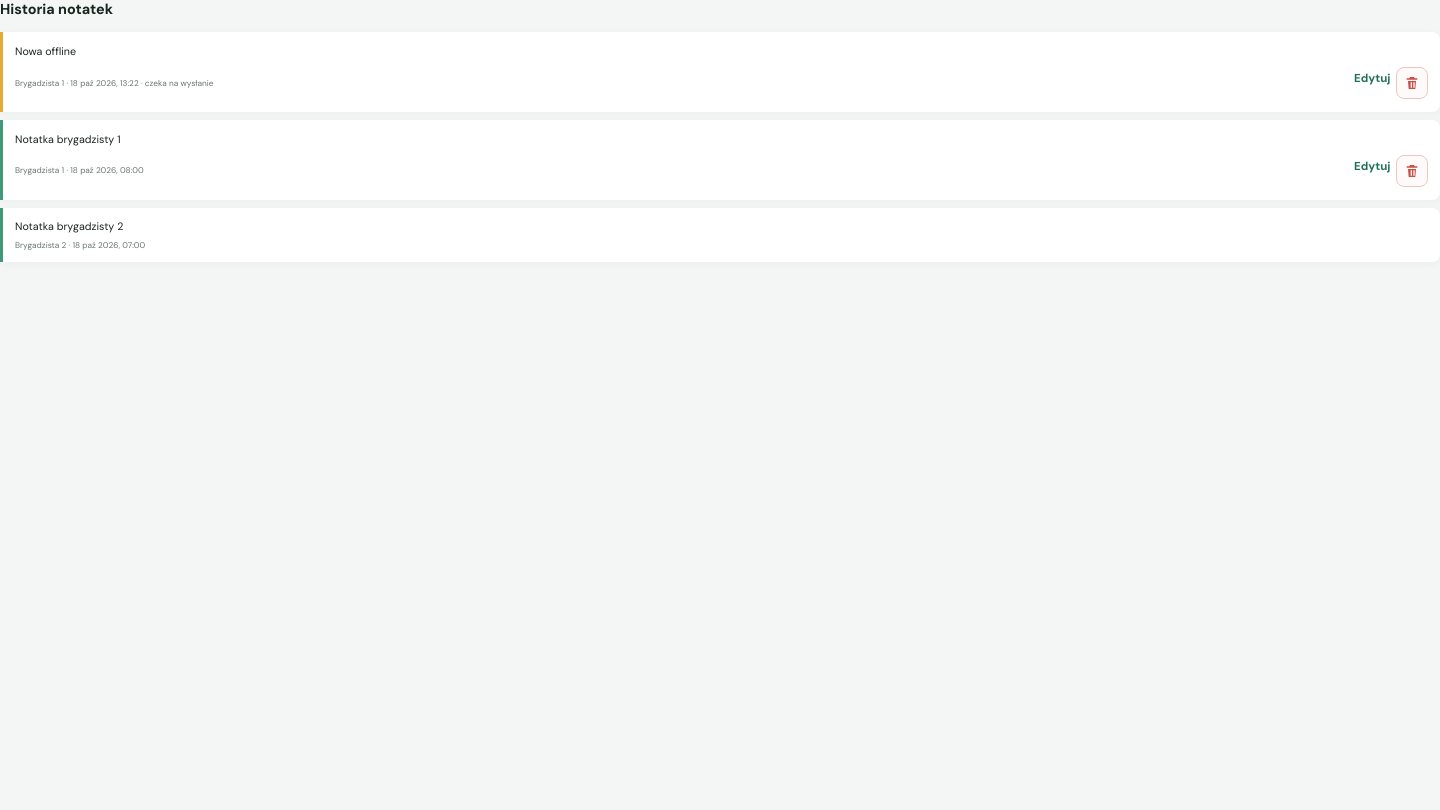
Scenario: bez zasięgu i synchronizacja › notatka dodana offline i niewysłana: edycja zmienia kolejkę, usunięcie usuwa ją z kolejki — bez żądań do serwera
The width and height of the screenshot is (1440, 810).
Expected: the text "Nowa offline" is shown, [15, 44, 76, 58]
Click the button "Edytuj" in the row of "· czeka na wysłanie".
click(1372, 83)  # box [1354, 64, 1390, 102]
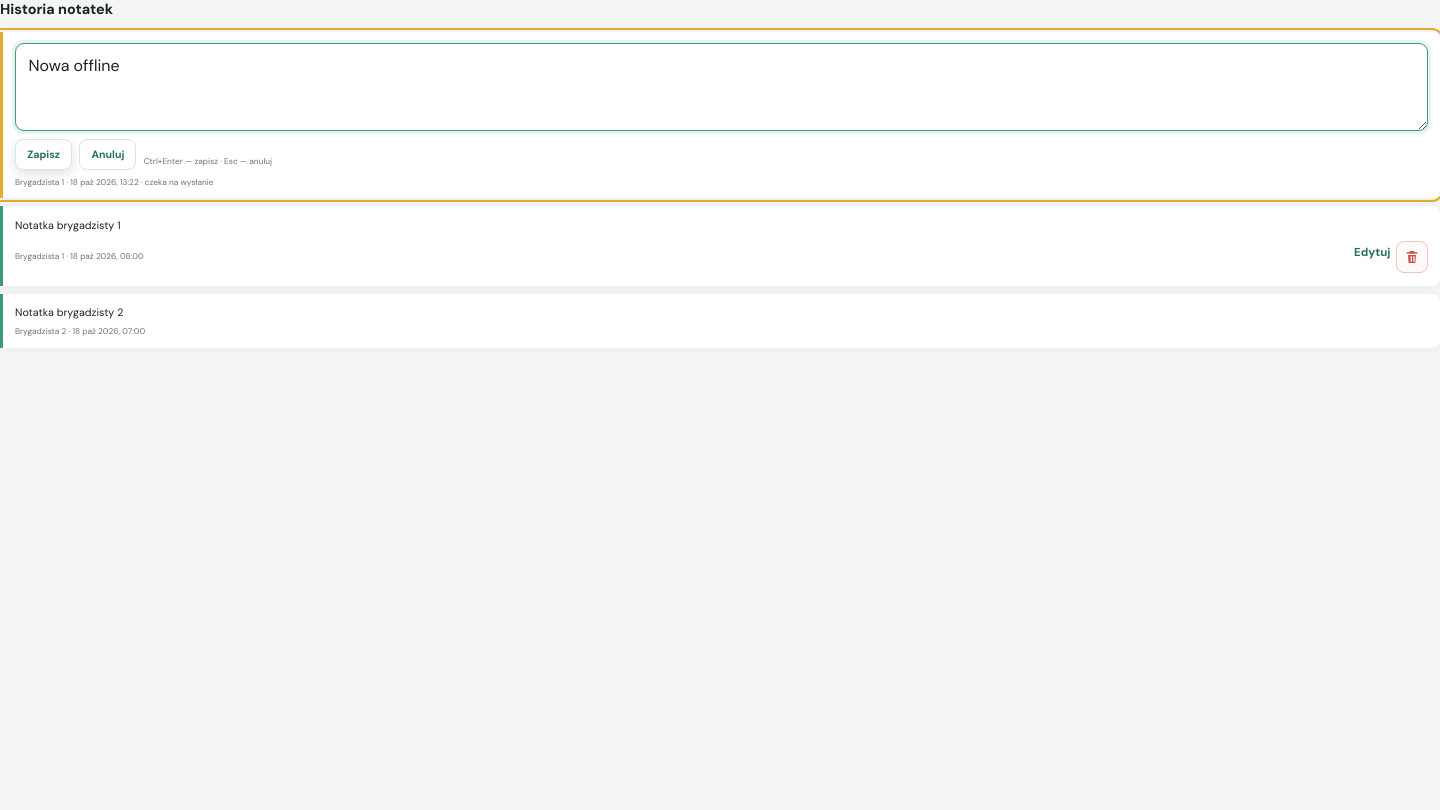
Replace the text in the text box named "Treść notatki" with "Nowa offline — poprawiona" at (722, 87), box [15, 43, 1428, 131]
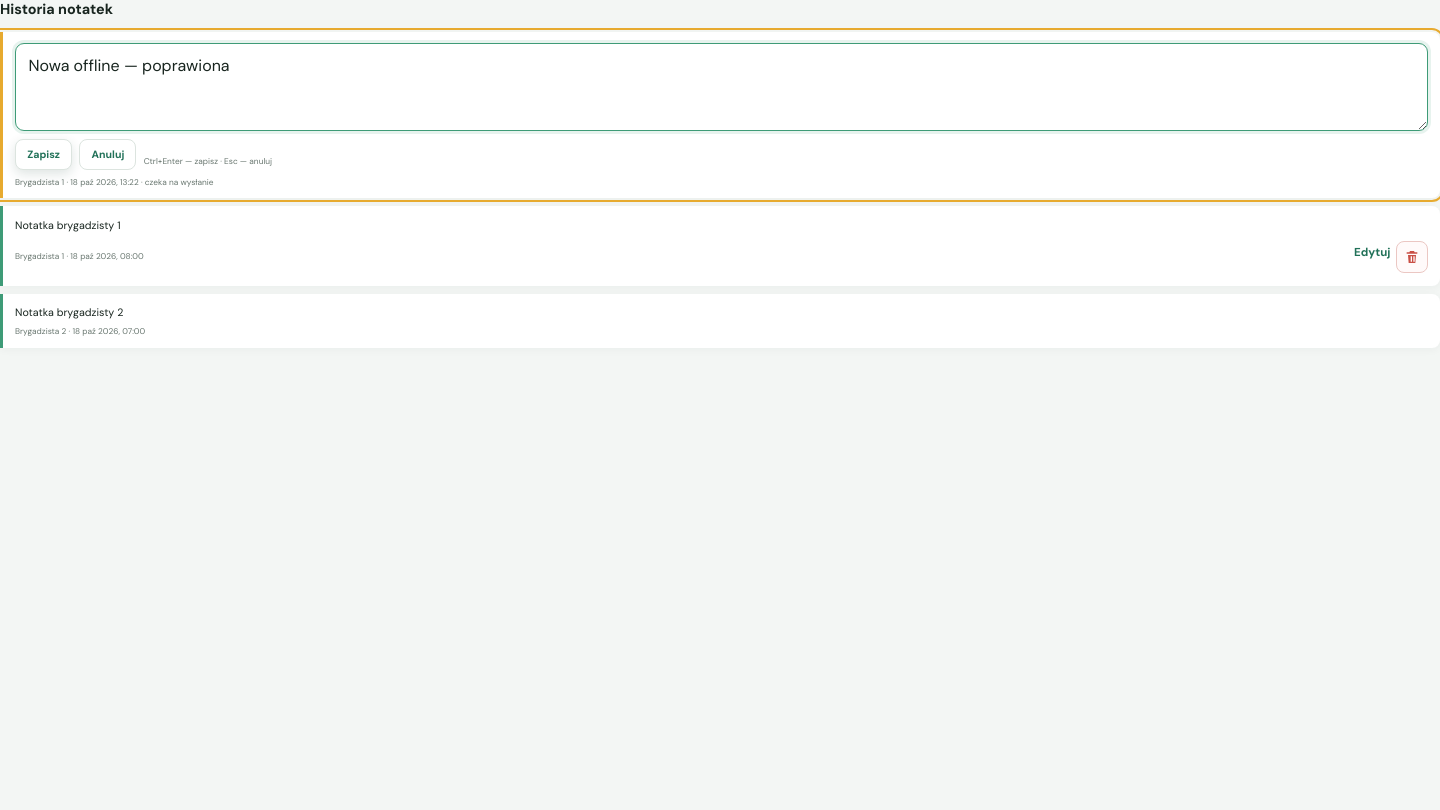
Click the button "Zapisz".
click(44, 155)  # box [15, 139, 72, 170]
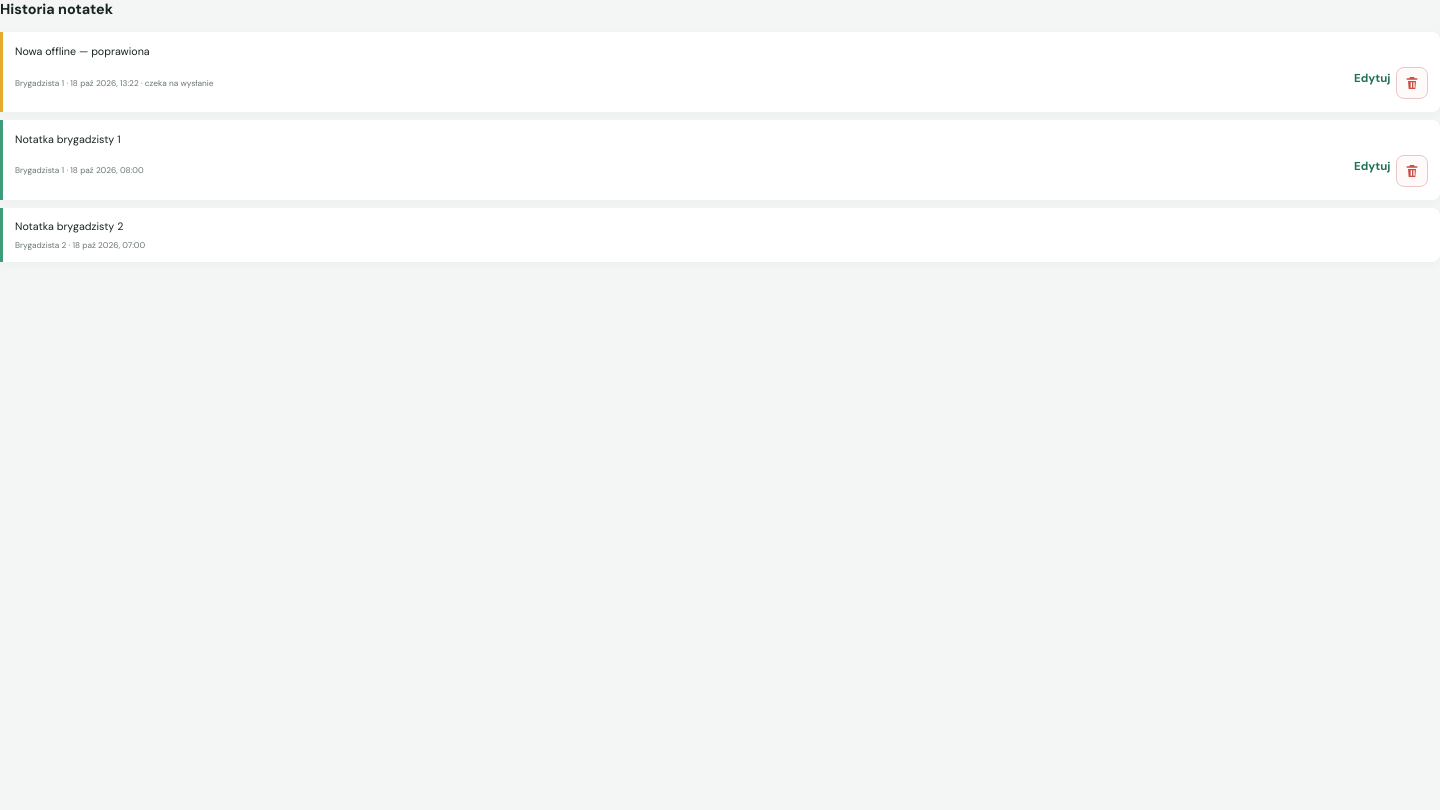
Now the text "Nowa offline — poprawiona" is shown, box [15, 44, 150, 58]
Click the button named "Usuń notatkę" in the row of "· czeka na wysłanie".
click(1412, 83)  # box [1396, 67, 1428, 99]
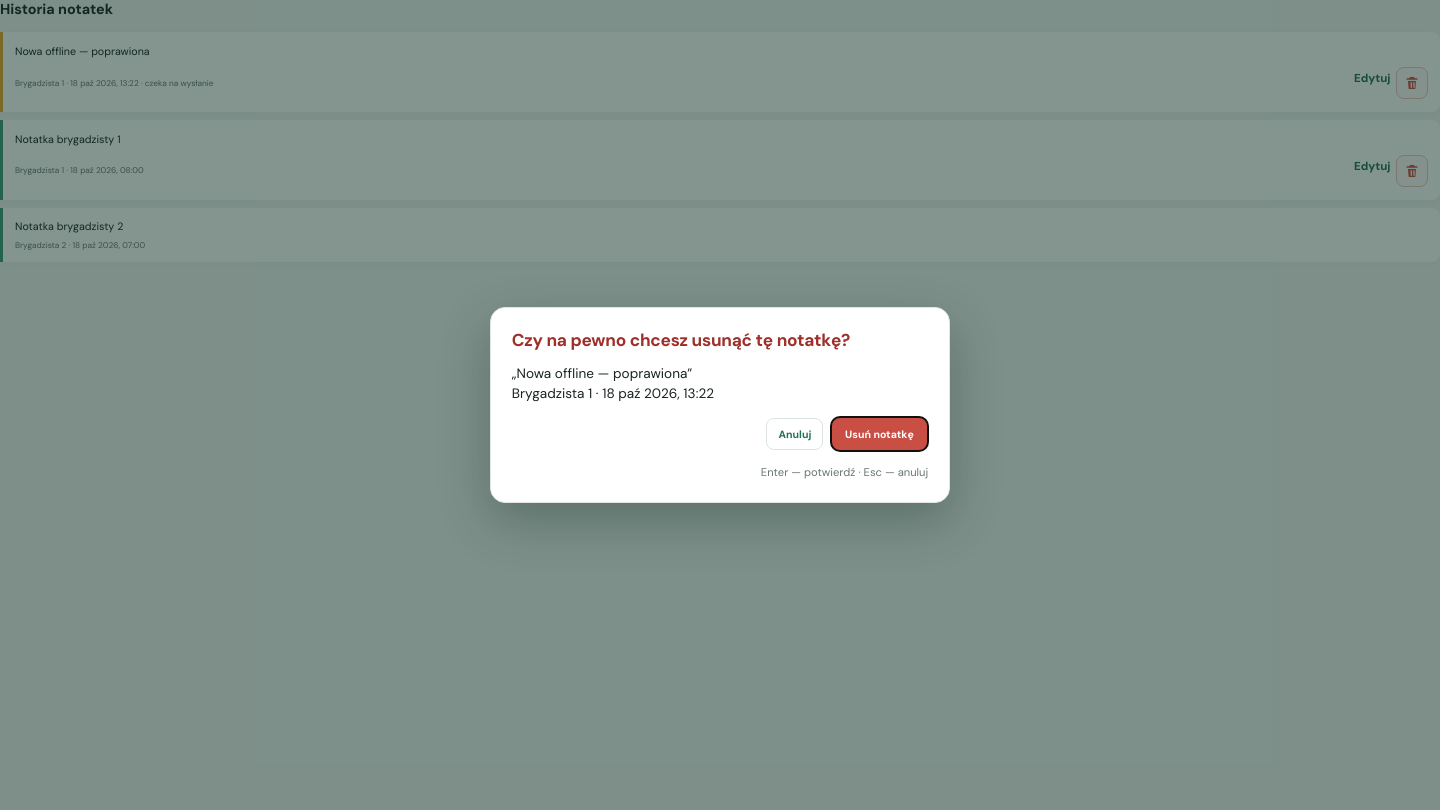
Click the button "Usuń notatkę".
click(879, 434)  # box [831, 417, 928, 451]
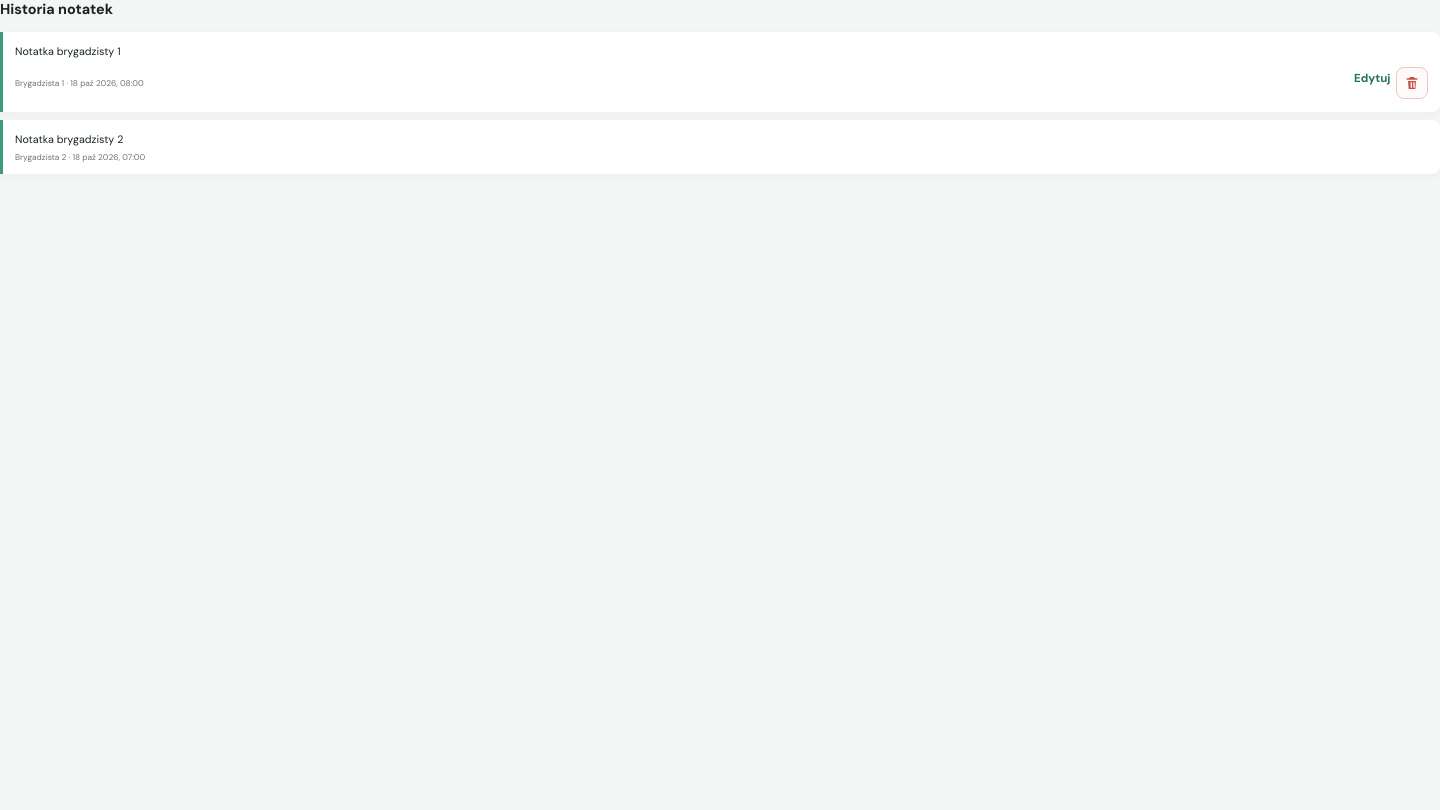
Now the text "Nowa offline — poprawiona" is gone
